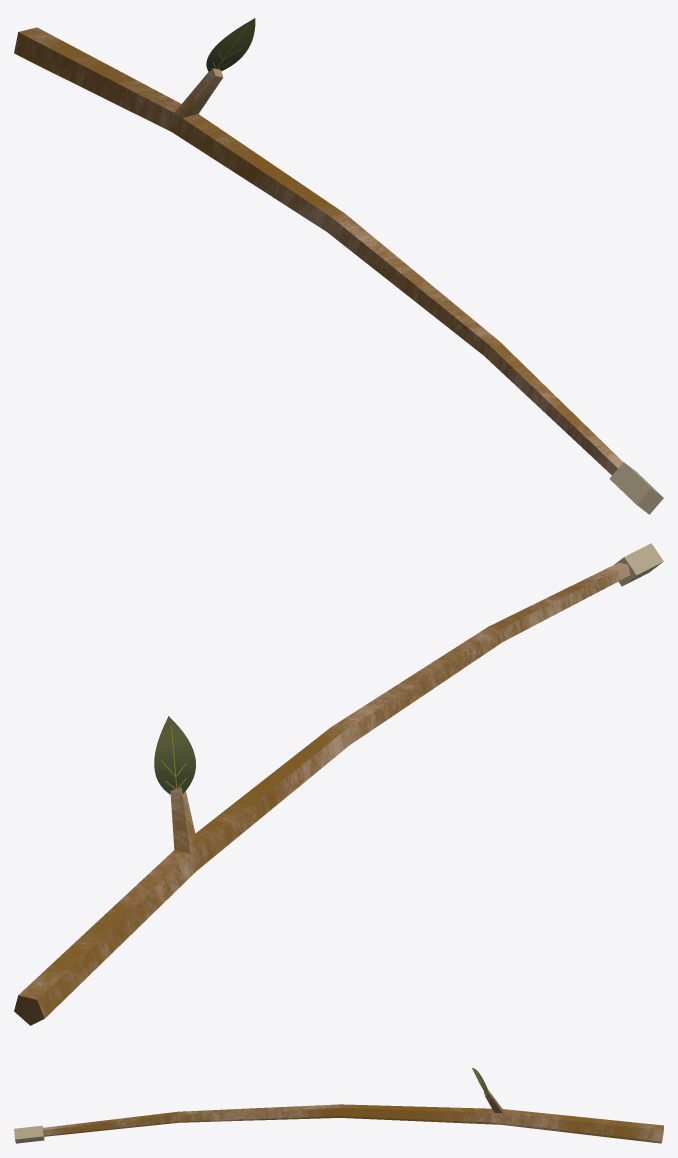
The model's file is canne_a_peche.fbx.
3 views of the same model, one above another, from view 1: azimuth 30°, elevation 25°; view 2: azimuth 150°, elevation 25°; view 3: azimuth 270°, elevation 25° (orthographic). The views are drawn at different scales.
Visible parts, largest first — view 1: canne_a_peche; view 2: canne_a_peche; view 3: canne_a_peche.
Boxes of the visible parts, bbox=[...] form: canne_a_peche: bbox=[14, 18, 663, 514]; canne_a_peche: bbox=[14, 543, 663, 1025]; canne_a_peche: bbox=[14, 1068, 663, 1143].
Size of the model in its own units: 16.64 by 31 by 195.
1 material, 1 textured.
